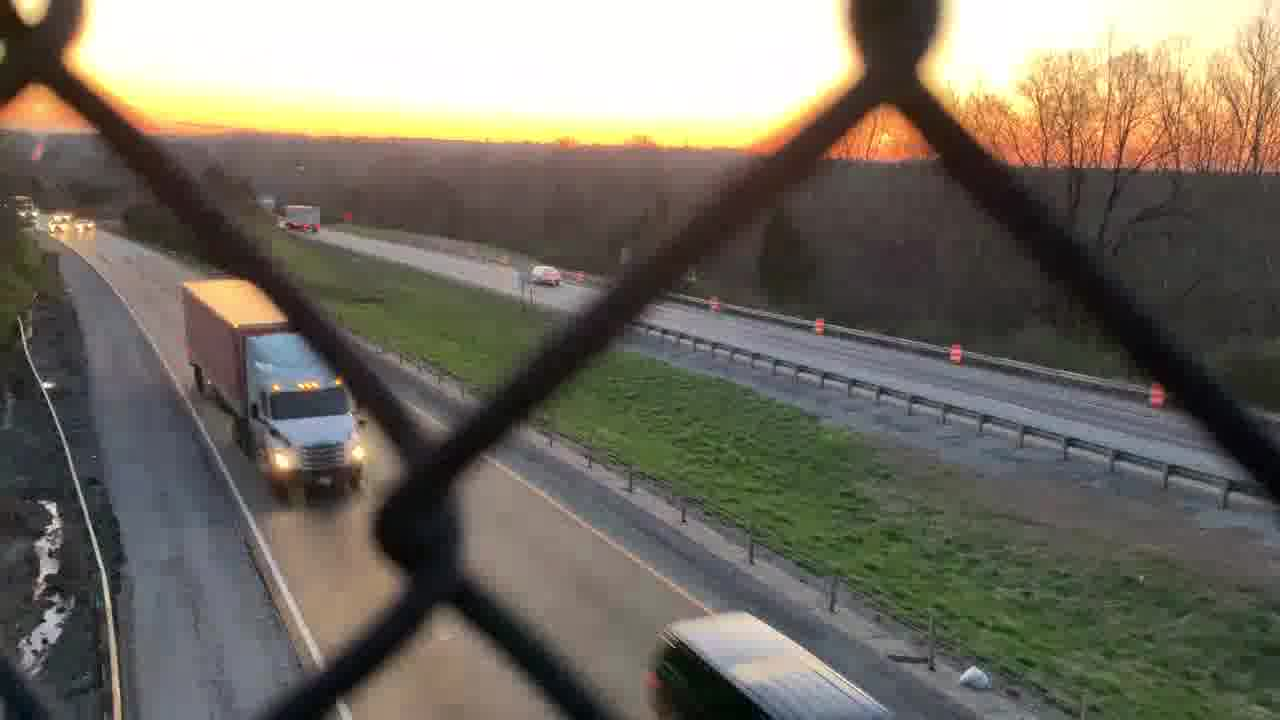heavyTruck: (177, 273, 372, 493)
